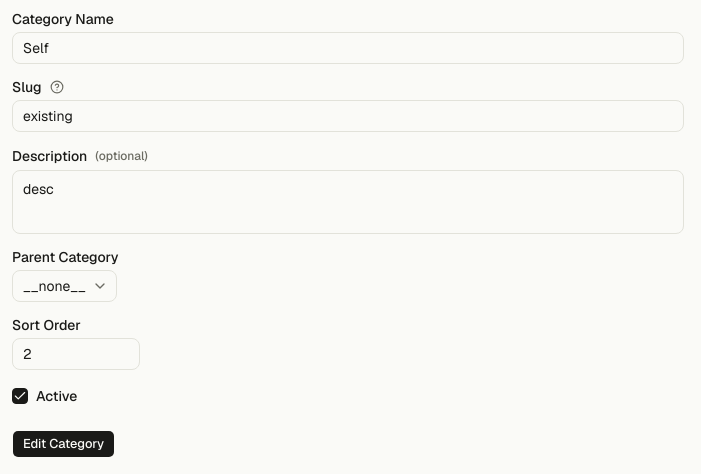
Test case: CategoryForm › excludes self from parent options in edit mode
# open the select
Click the dropdown named "Parent Category".
click(64, 286)  # box top-left (12, 270), bottom-right (117, 302)
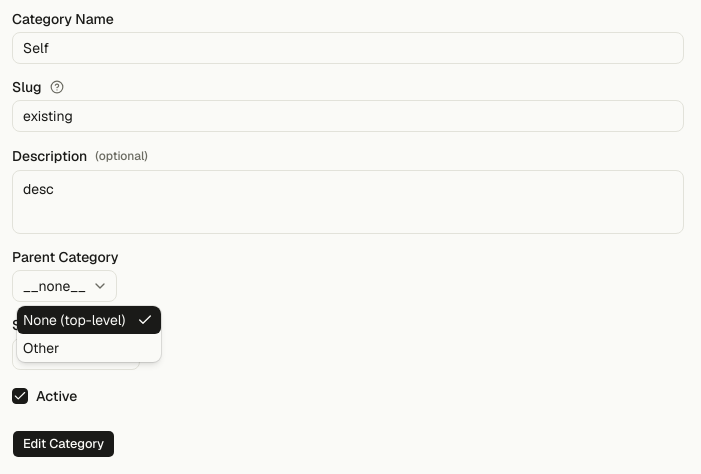
expect the text "Other" is shown: met, box top-left (23, 339), bottom-right (59, 357)
